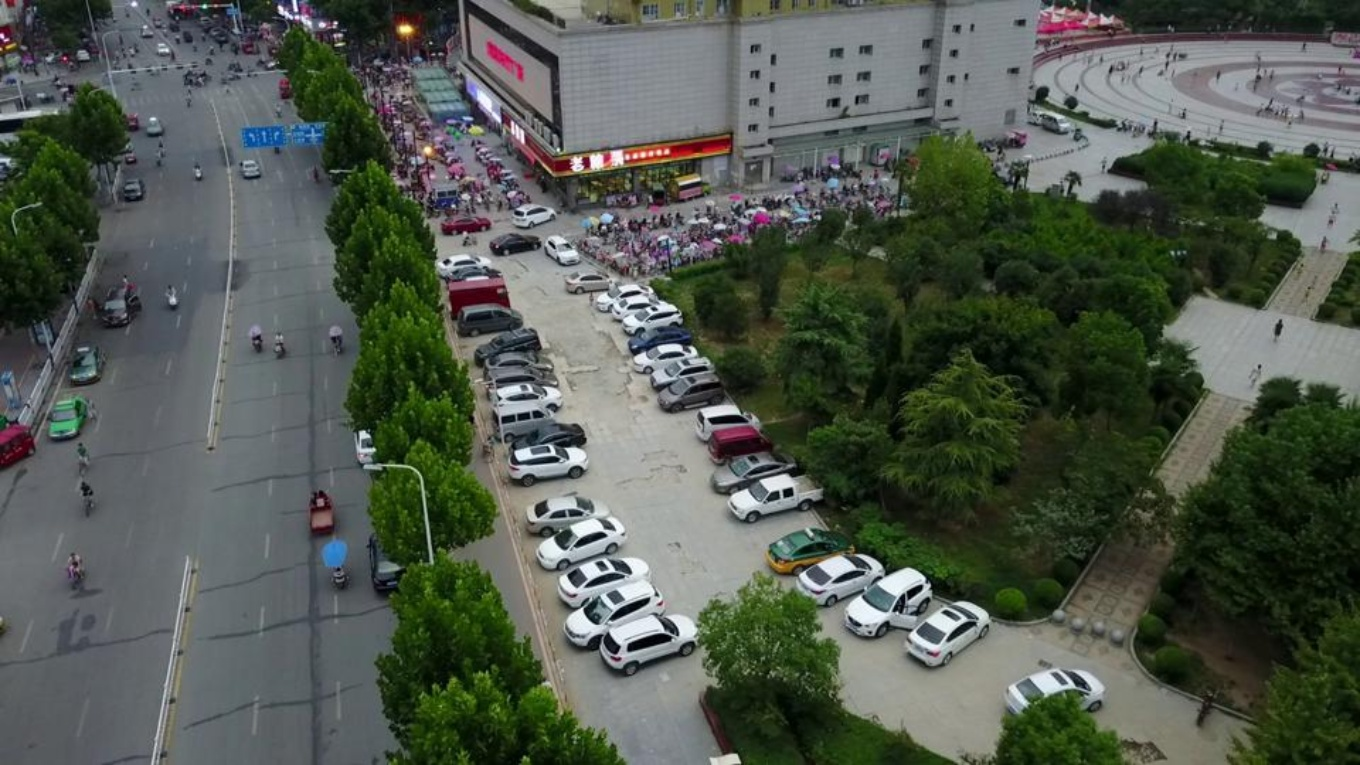awning-tricycle: (0, 421, 36, 470), (123, 144, 135, 162)
bicycle: (77, 488, 96, 515), (75, 453, 94, 471), (458, 236, 478, 244)
car: (563, 580, 665, 645), (841, 564, 931, 637), (596, 613, 700, 675), (904, 601, 991, 666), (533, 515, 634, 569), (557, 556, 657, 607), (1002, 666, 1107, 713), (727, 471, 824, 521), (795, 552, 882, 606), (522, 489, 613, 538), (764, 526, 856, 573), (709, 448, 800, 492), (505, 441, 587, 485), (655, 370, 723, 412), (692, 402, 760, 440), (709, 423, 773, 463), (365, 531, 407, 591), (508, 421, 584, 453), (648, 356, 717, 387), (488, 383, 562, 410), (625, 325, 695, 352), (621, 303, 685, 332), (634, 342, 698, 370), (594, 281, 655, 310), (481, 354, 555, 376), (607, 294, 666, 321), (436, 253, 498, 277), (563, 266, 621, 291), (66, 344, 103, 383), (46, 395, 80, 437), (352, 420, 385, 463), (488, 230, 540, 256), (543, 232, 580, 263), (512, 202, 555, 227), (447, 266, 498, 287), (438, 212, 489, 233), (123, 177, 144, 198), (240, 160, 261, 178), (144, 114, 162, 133)
ignored regions: (968, 11, 1355, 175), (574, 168, 950, 267), (1, 4, 297, 114), (361, 31, 529, 212), (1291, 196, 1339, 300)
motor: (1190, 689, 1220, 726), (60, 563, 86, 587), (271, 341, 287, 356), (250, 335, 261, 352), (167, 291, 176, 308), (273, 140, 281, 154), (192, 168, 201, 179), (154, 155, 161, 167)
others: (328, 545, 346, 589)
pedestrian: (1244, 362, 1261, 389), (77, 443, 92, 471), (83, 396, 99, 421), (121, 274, 133, 298), (1270, 318, 1281, 342), (83, 298, 96, 317), (606, 278, 617, 297), (328, 334, 338, 354), (335, 334, 344, 354), (310, 167, 320, 181), (587, 293, 594, 305)
people: (65, 553, 84, 590), (80, 482, 96, 511), (331, 553, 342, 577), (315, 488, 327, 504), (273, 332, 283, 351), (465, 227, 475, 243), (165, 286, 175, 301), (193, 162, 202, 175), (252, 331, 260, 345), (158, 141, 164, 154), (154, 151, 160, 161)
tricycle: (308, 492, 334, 532)
truck: (448, 276, 512, 320)
van: (492, 400, 553, 440), (470, 327, 546, 358), (457, 301, 521, 337), (481, 368, 566, 393), (101, 286, 141, 325), (126, 114, 140, 128)
